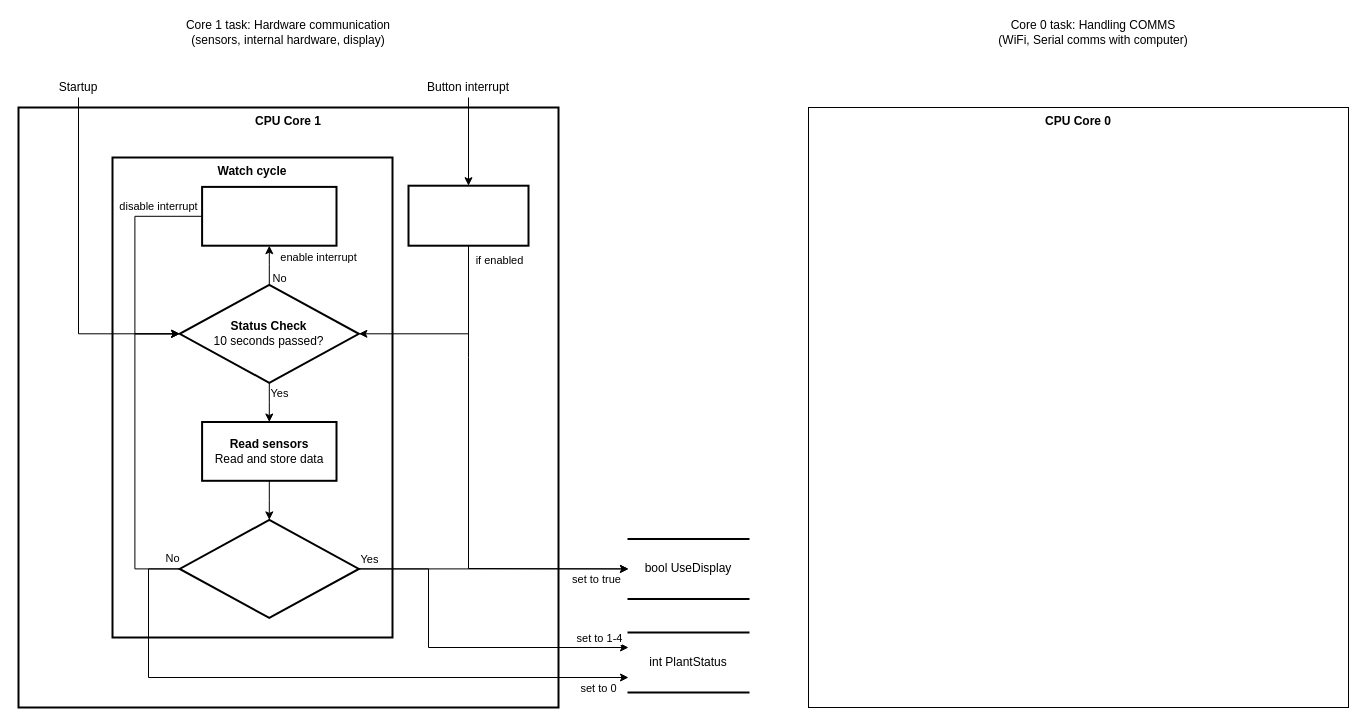
Some shapes in this 1366 by 725 pixel diagram are drawn without their labels. The shapes that lost their labels are listed below. From the top down, each one's centre as x and y in pixels, then its label:
At (269,215): "Sleep mode sleep for X seconds".
At (468,215): "Interrupt watchdog".
At (268,568): "Require Action Do any values exceed their threshold?".
